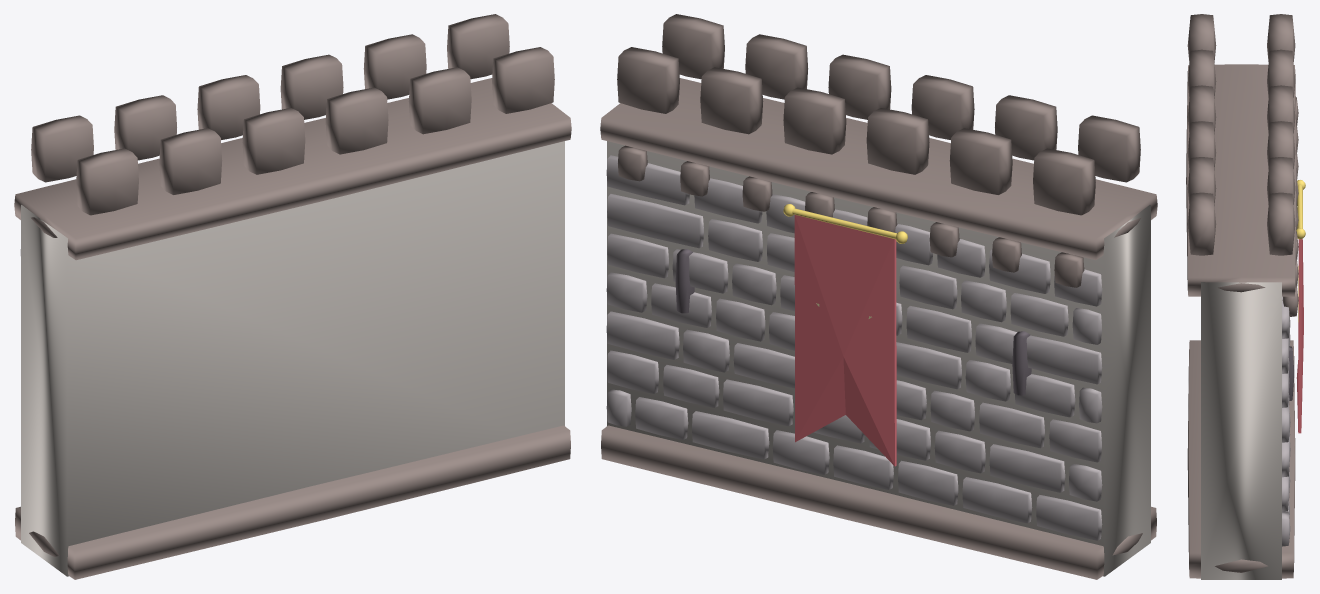
The model's file is ArrowAmbushCastleWall.glb.
3 renders of one model, left to right at view 1: azimuth 30°, elevation 25°; view 2: azimuth 150°, elevation 25°; view 3: azimuth 270°, elevation 25°, orthographic. The views are drawn at different scales.
Parts seen in each view (by area): view 1: Mortar, Trim; view 2: Trim, Stone, Mortar, Banner, Window, Gold; view 3: Trim, Mortar, Stone, Banner, Gold, Window.
Boxes of the visible parts, left/top/right/bottom form: Mortar: left=21, top=141, right=564, bottom=576; Trim: left=14, top=14, right=571, bottom=579; Trim: left=600, top=14, right=1157, bottom=579; Stone: left=606, top=155, right=1102, bottom=540; Mortar: left=607, top=141, right=1150, bottom=576; Banner: left=794, top=215, right=896, bottom=466; Window: left=675, top=249, right=1031, bottom=395; Gold: left=783, top=204, right=907, bottom=243; Trim: left=1186, top=14, right=1298, bottom=578; Mortar: left=1201, top=282, right=1281, bottom=579; Stone: left=1282, top=296, right=1290, bottom=546; Banner: left=1296, top=239, right=1303, bottom=433; Gold: left=1296, top=180, right=1305, bottom=239; Window: left=1289, top=346, right=1294, bottom=400.
Size of the model in its own units: 16 by 12.6 by 3.78.
